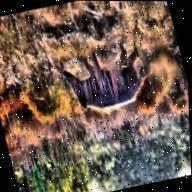boar: (47, 41, 162, 128)
